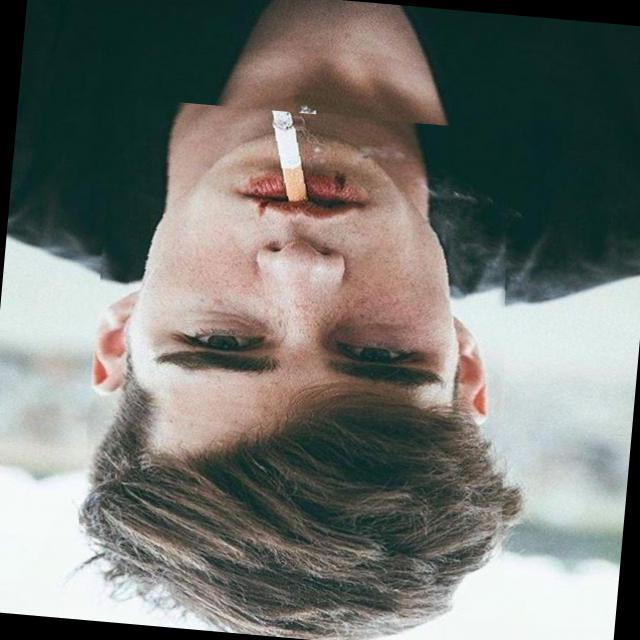cigarette: (282, 94, 370, 240)
